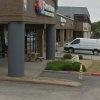Car: (61, 29, 100, 56)
